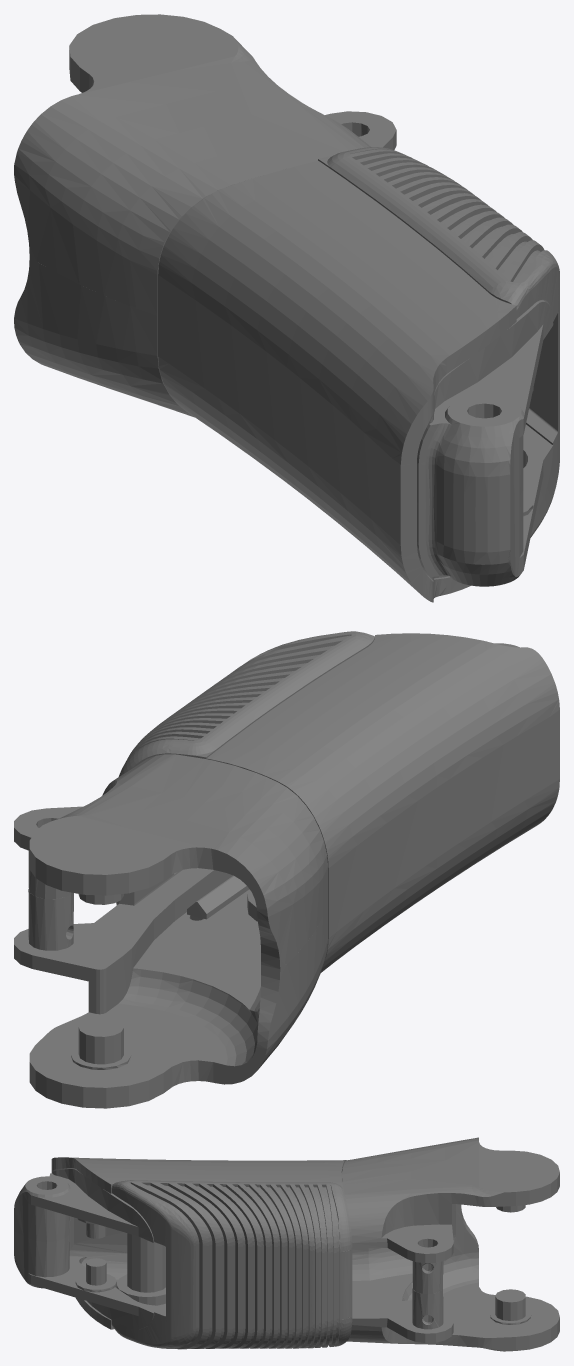
The model's file is lh_pinky_proximal_vis.obj.
3 views of the same model, one above another, from view 1: azimuth 30°, elevation 25°; view 2: azimuth 150°, elevation 25°; view 3: azimuth 270°, elevation 25° (orthographic). The views are drawn at different scales.
Parts seen in each view (by area): view 1: lh_pinky_proximal; view 2: lh_pinky_proximal; view 3: lh_pinky_proximal.
Part boxes in pixels (x1,y1,x2,y2): lh_pinky_proximal: [14, 14, 559, 602]; lh_pinky_proximal: [14, 631, 559, 1108]; lh_pinky_proximal: [14, 1137, 559, 1351].
Bounding box in the file's own units: 0.0218 × 0.017 × 0.0528.
1 material, 1 textured.
